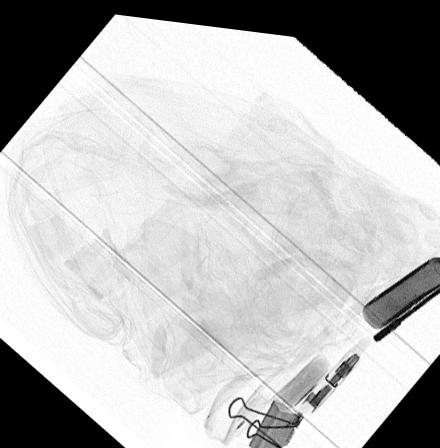Wrench: (370, 273, 440, 331)
